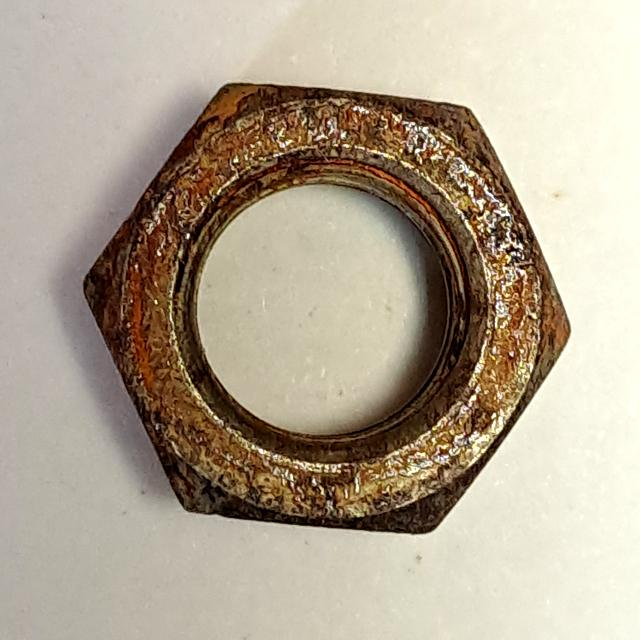Rust: (68, 68, 586, 561)
